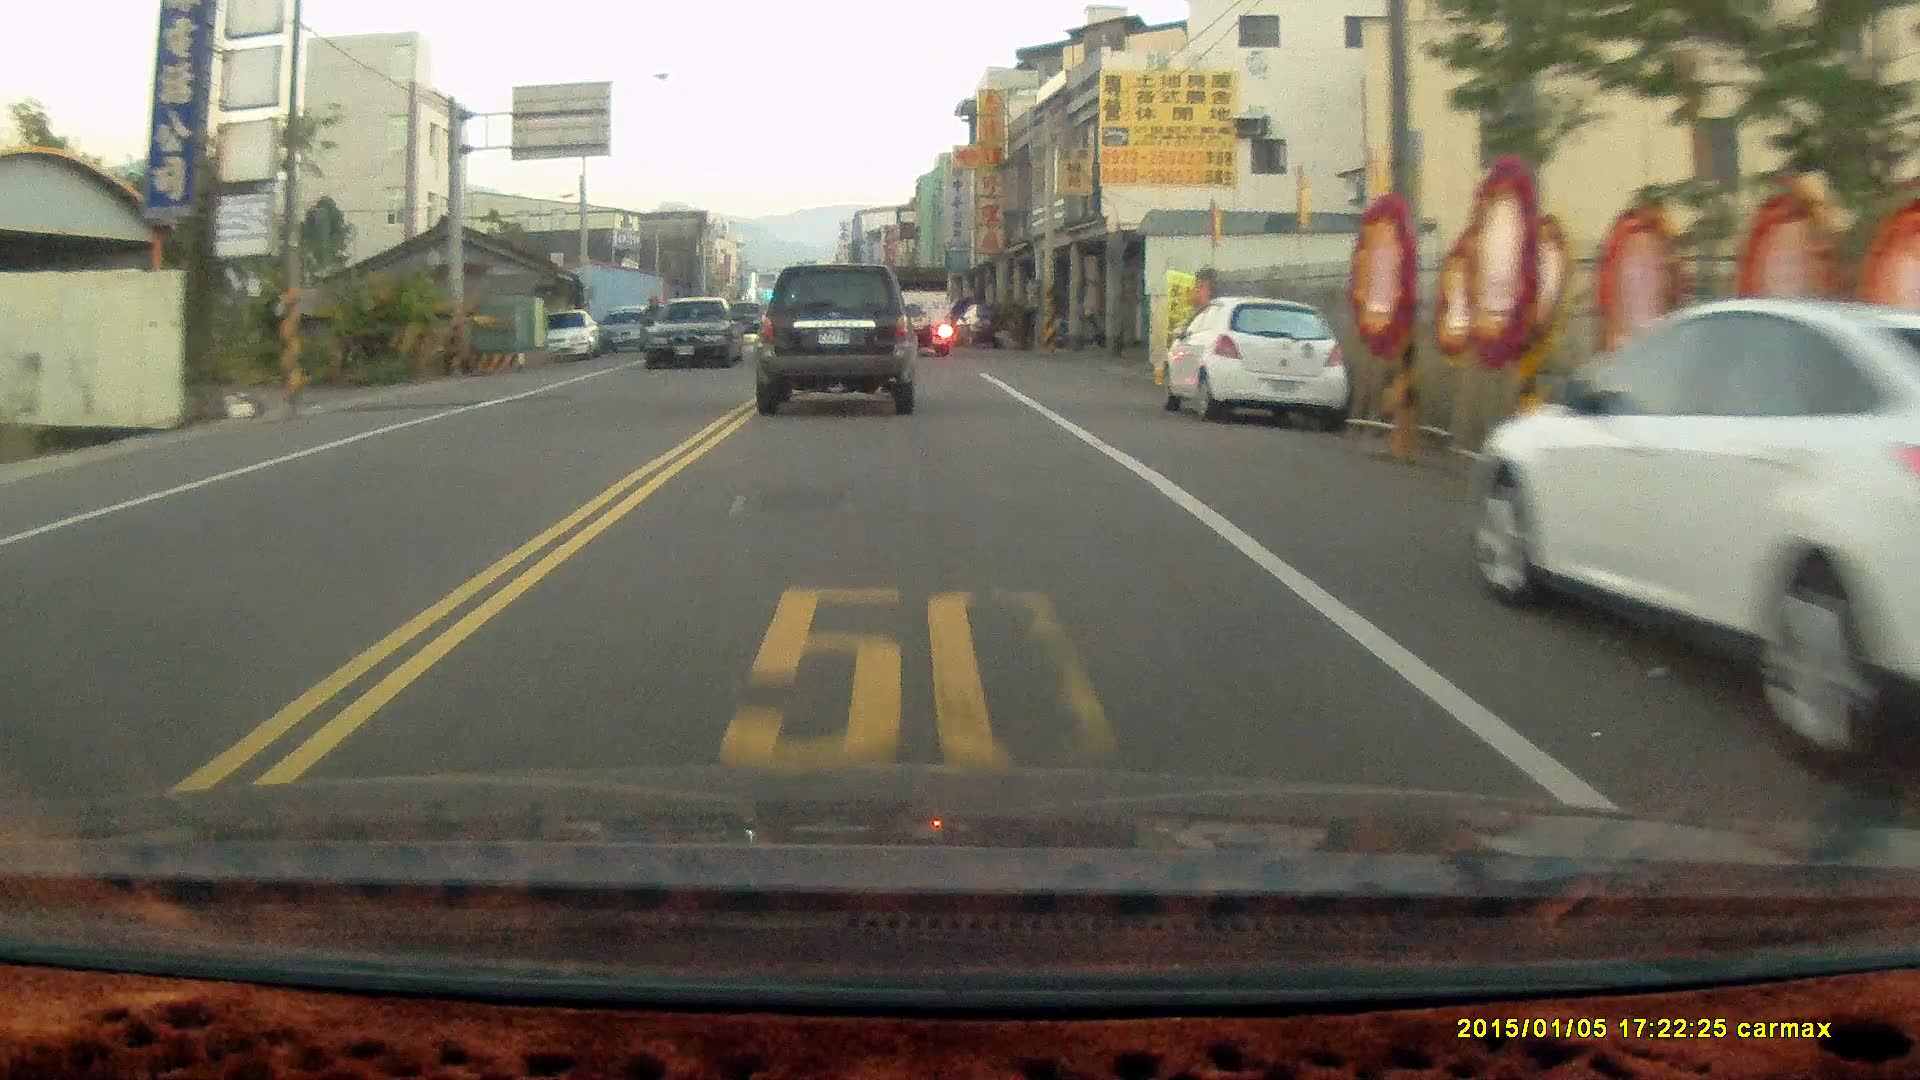vehicle: (1462, 295, 1920, 782), (750, 262, 919, 414), (1164, 297, 1344, 434), (647, 293, 748, 367), (882, 261, 957, 356), (526, 307, 604, 361), (595, 303, 662, 355)
